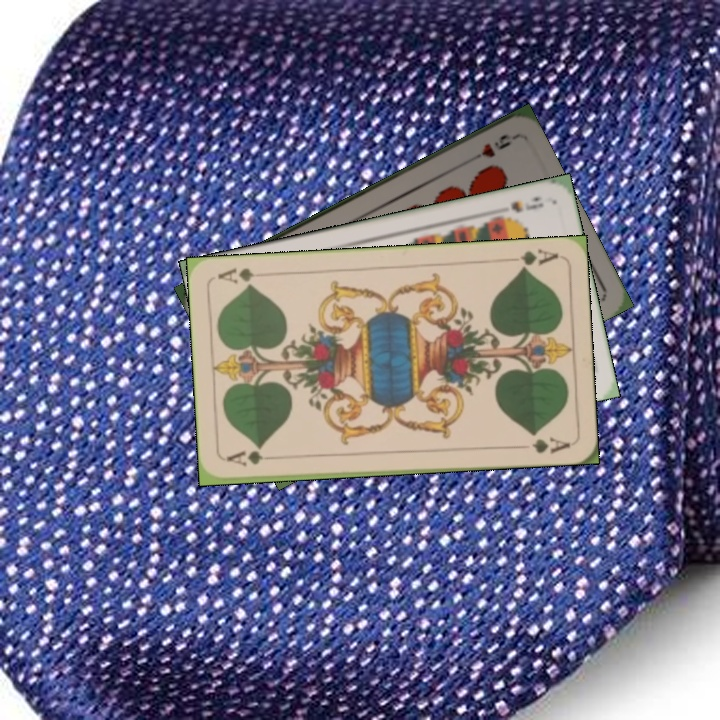GA: (502, 245, 561, 273), (223, 447, 282, 469)
H9: (463, 130, 517, 166)
S9: (507, 192, 547, 215)
